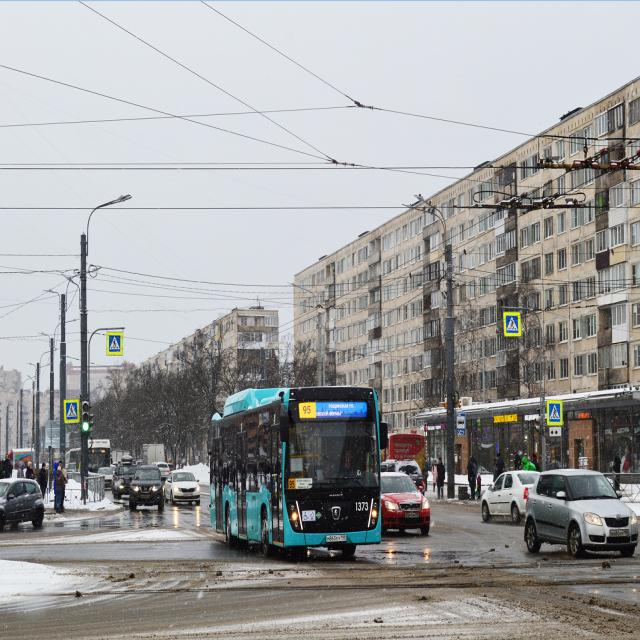number-of-bus: (301, 405, 315, 417), (290, 480, 296, 490)
